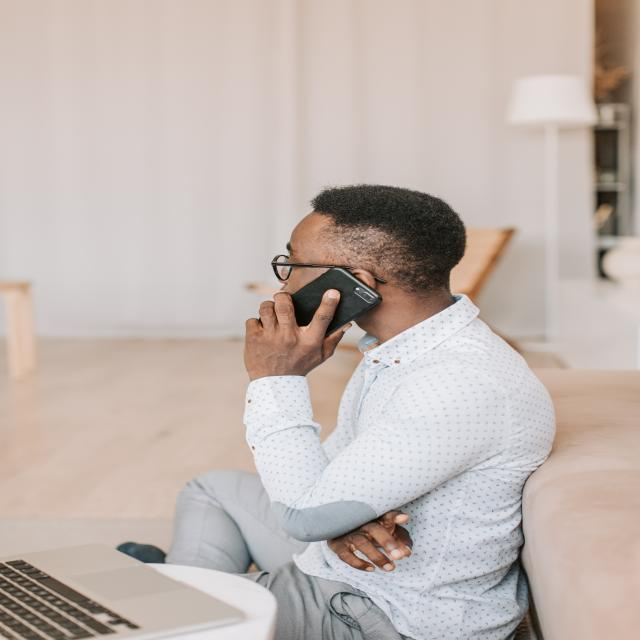phone: (264, 267, 382, 335)
